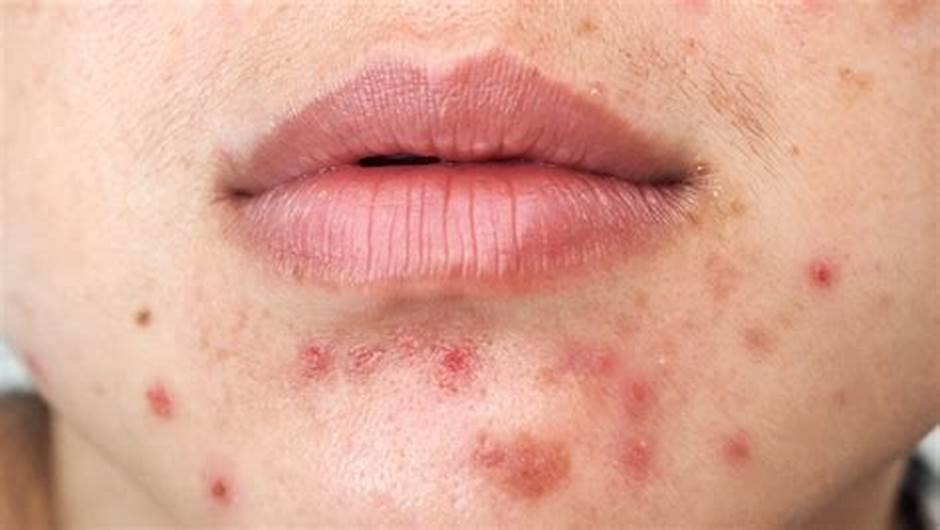Acne: (127, 373, 186, 429), (797, 249, 846, 300), (623, 421, 660, 470)
